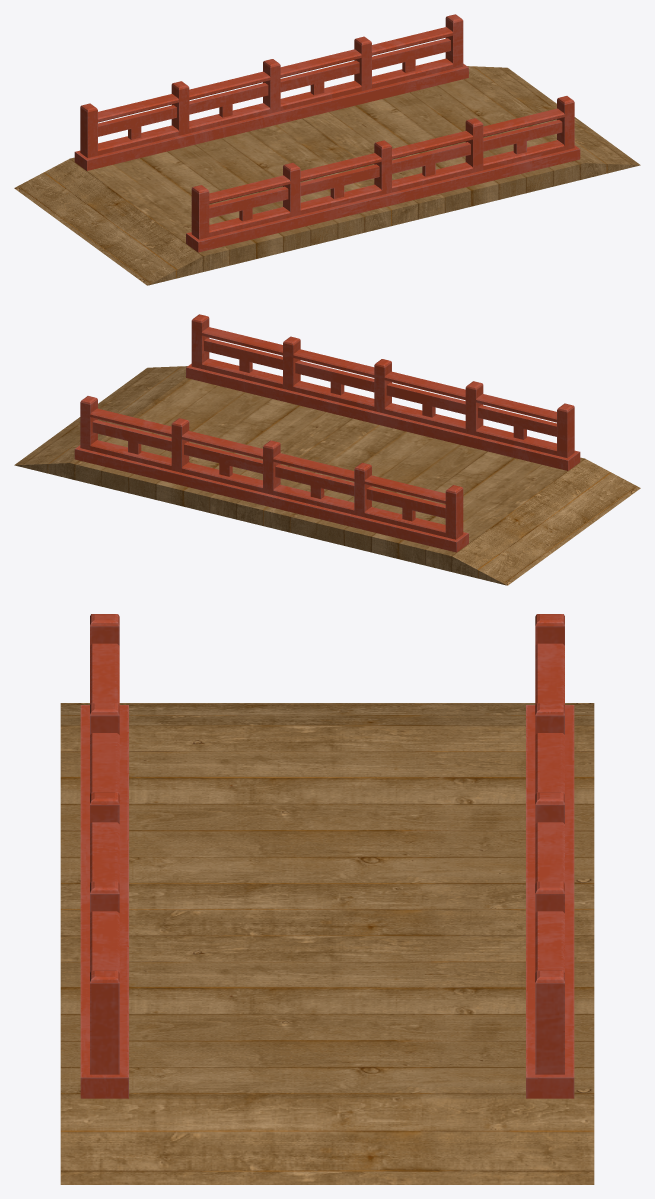
Rendered from Hashi.fbx.
3 views of the same model, one above another, from view 1: azimuth 30°, elevation 25°; view 2: azimuth 150°, elevation 25°; view 3: azimuth 270°, elevation 25° (orthographic). The views are drawn at different scales.
Visible parts, largest first — view 1: Cube.002; view 2: Cube.002; view 3: Cube.002.
Part boxes in pixels (bbox=[...]): Cube.002: bbox=[14, 14, 640, 285]; Cube.002: bbox=[14, 314, 640, 585]; Cube.002: bbox=[60, 614, 594, 1184].
Size of the model in its own units: 486 by 69.85 by 227.
1 material, 1 textured.
